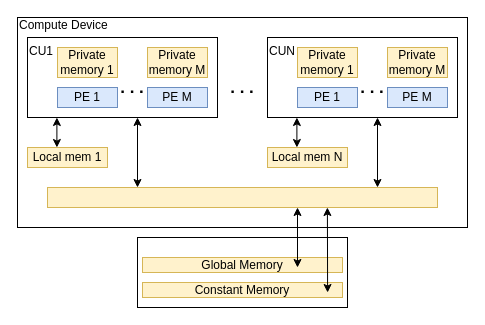
Image size: 485x325. Some labels were removed from this diagram. The shapes that lost their labels are listed below. From the top down, each one's box as (x1, y1, x2, y2) in pixels, then its label:
(46, 186, 438, 208): Global/Constant Memory Data Cache
(136, 236, 348, 308): Compute Device Memory
